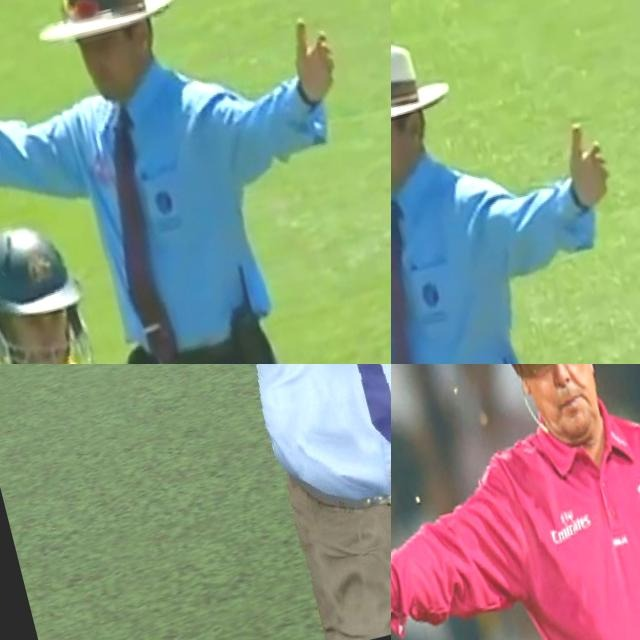No_Ball: (0, 364, 391, 640), (391, 364, 640, 640)
Wide: (0, 0, 391, 364), (391, 0, 640, 364)
